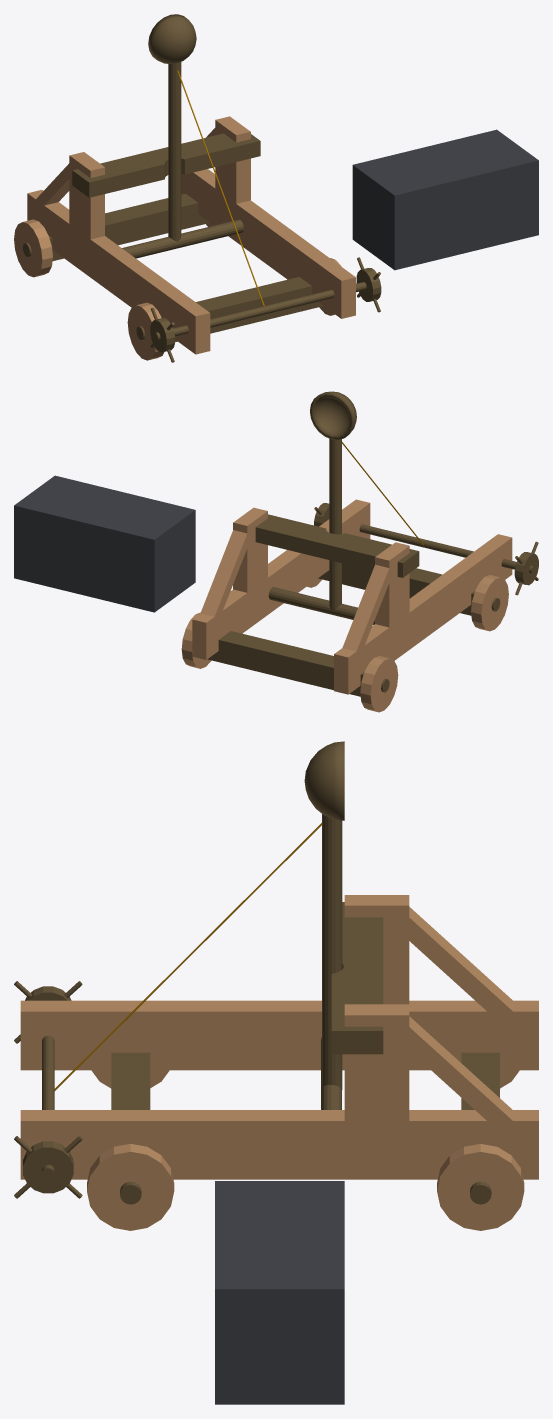
Rendered from catapult.glb.
The picture shows the model from 3 angles, top to bottom: view 1: azimuth 30°, elevation 25°; view 2: azimuth 150°, elevation 25°; view 3: azimuth 270°, elevation 25°; orthographic projection. The views are drawn at different scales.
Parts seen in each view (by area): view 1: Chassis, StoneBlock, RamBar, ThrowingArm, AxleCase.f, AxleCase.b, Icosphere, Wheel.bl.001, Axle.r.001, Wheel.bl, Wheel.br.002, Wheel.br.001 (+1 smaller); view 2: Chassis, StoneBlock, RamBar, AxleCase.f, ThrowingArm, Icosphere, Wheel.bl.001, Wheel.bl, AxleCase.b, Axle.r.001, Wheel.br.002, Wheel.fr; view 3: Chassis, StoneBlock, RamBar, Wheel.br, Wheel.fr, ThrowingArm, Icosphere, Wheel.br.001, AxleCase.b, AxleCase.f, Axle.r.001, Rope (+1 smaller).
Part boxes in pixels (x1=…): Chassis: x1=27, y1=116, x2=355, y2=354; StoneBlock: x1=352, y1=129, x2=538, y2=270; RamBar: x1=72, y1=133, x2=260, y2=197; ThrowingArm: x1=122, y1=62, x2=243, y2=258; AxleCase.f: x1=48, y1=193, x2=209, y2=260; AxleCase.b: x1=175, y1=277, x2=322, y2=342; Icosphere: x1=148, y1=14, x2=196, y2=63; Wheel.bl.001: x1=14, y1=219, x2=52, y2=277; Axle.r.001: x1=154, y1=282, x2=366, y2=340; Wheel.bl: x1=127, y1=302, x2=164, y2=360; Wheel.br.002: x1=150, y1=307, x2=174, y2=362; Wheel.br.001: x1=356, y1=257, x2=381, y2=312; Chassis: x1=192, y1=499, x2=512, y2=694; StoneBlock: x1=14, y1=475, x2=195, y2=612; RamBar: x1=255, y1=514, x2=419, y2=577; AxleCase.f: x1=207, y1=631, x2=364, y2=696; ThrowingArm: x1=268, y1=438, x2=374, y2=624; Icosphere: x1=310, y1=391, x2=356, y2=439; Wheel.bl.001: x1=360, y1=656, x2=398, y2=712; Wheel.bl: x1=471, y1=575, x2=508, y2=631; AxleCase.b: x1=318, y1=563, x2=474, y2=615; Axle.r.001: x1=329, y1=518, x2=535, y2=573; Wheel.br.002: x1=514, y1=541, x2=538, y2=595; Wheel.fr: x1=181, y1=612, x2=211, y2=668; Chassis: x1=20, y1=895, x2=538, y2=1179; StoneBlock: x1=215, y1=1181, x2=344, y2=1404; RamBar: x1=331, y1=902, x2=383, y2=1054; Wheel.br: x1=87, y1=1143, x2=174, y2=1230; Wheel.fr: x1=437, y1=1144, x2=524, y2=1230; ThrowingArm: x1=321, y1=814, x2=342, y2=1109; Icosphere: x1=304, y1=741, x2=344, y2=820; Wheel.br.001: x1=14, y1=1136, x2=82, y2=1198; AxleCase.b: x1=111, y1=1052, x2=150, y2=1109; AxleCase.f: x1=461, y1=1052, x2=499, y2=1109; Axle.r.001: x1=42, y1=1035, x2=54, y2=1179; Rope: x1=54, y1=823, x2=322, y2=1090.
Size of the model in its own units: 6 by 3.53 by 4.05.
